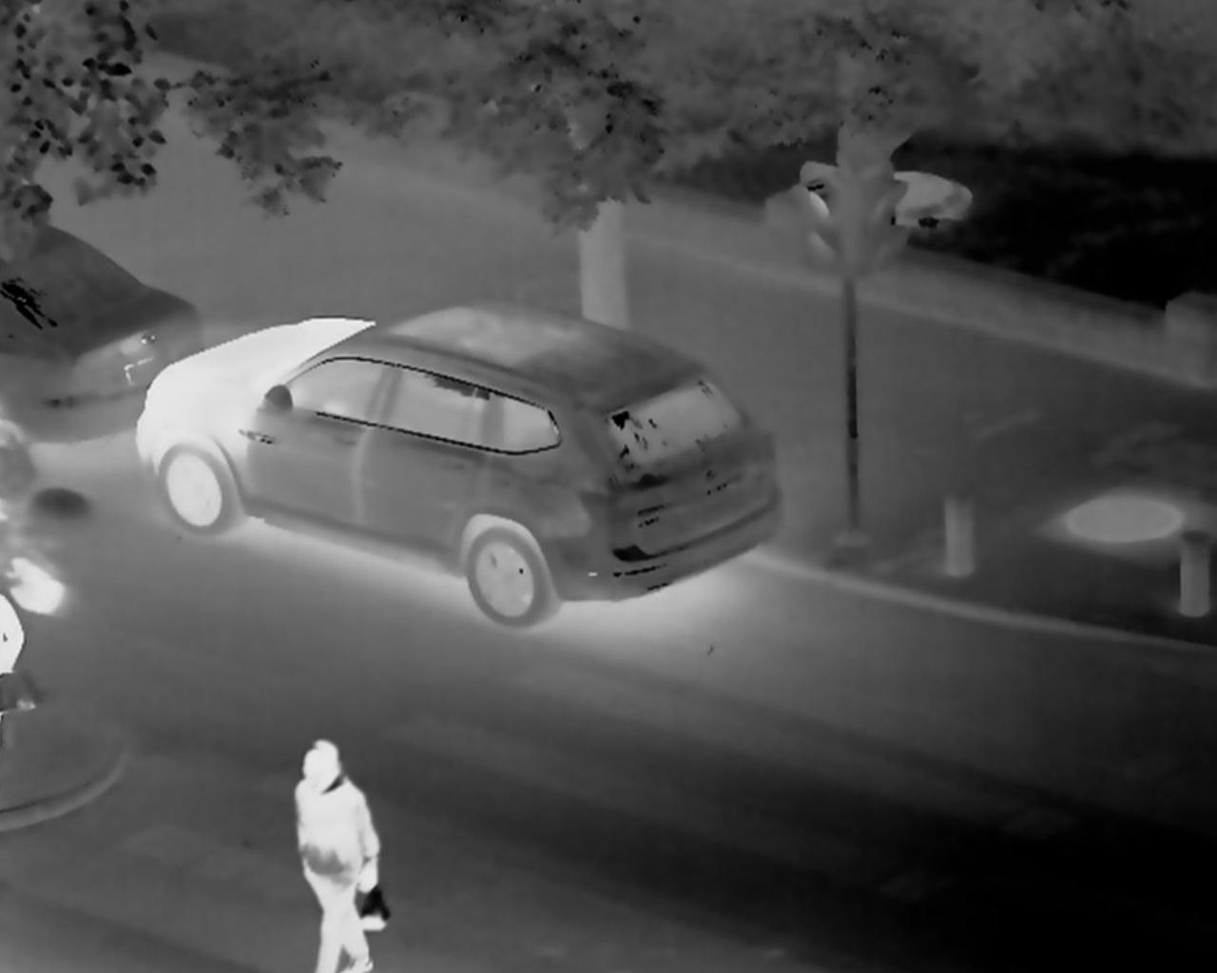person: (288, 723, 428, 973)
